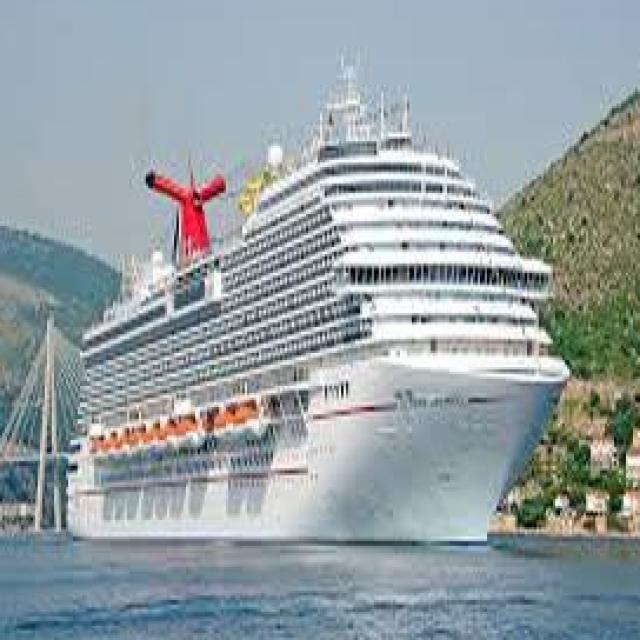passenger ship: (56, 99, 577, 540)
